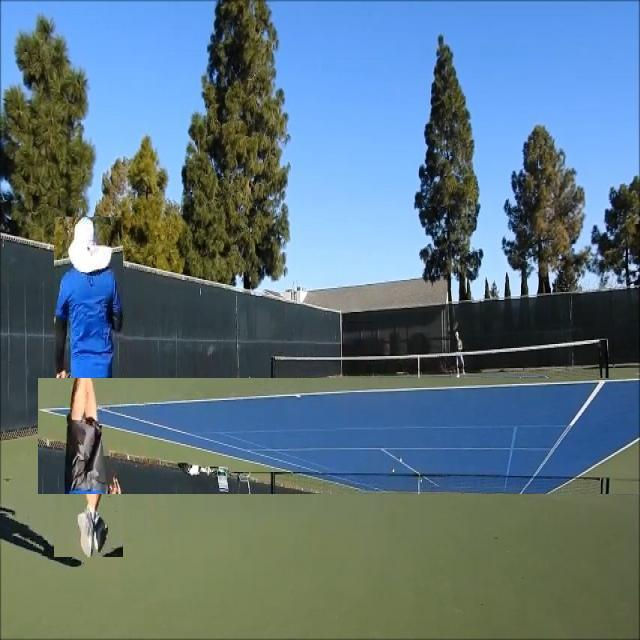court: (38, 378, 640, 494)
net: (271, 336, 610, 402)
player: (54, 217, 123, 557)
